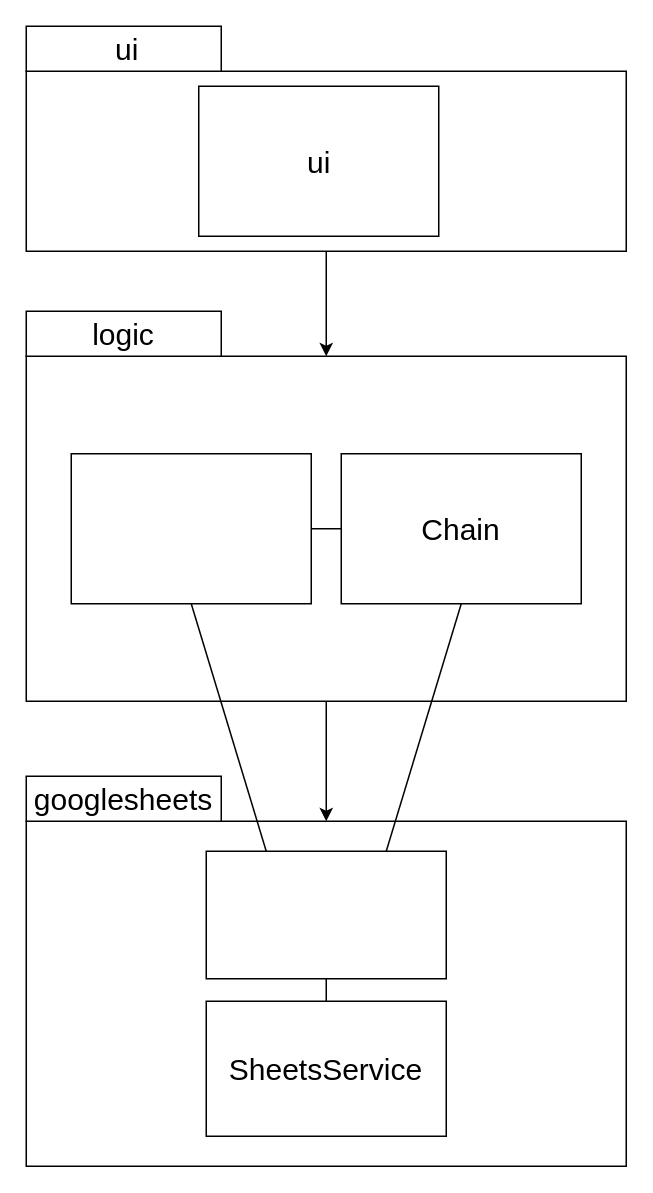
Some shapes in this 653 by 1193 pixel diagram are drawn without their labels. Each missing label, with the centre of its shape:
Block: point (190, 528)
SheetsChain: point (325, 914)
